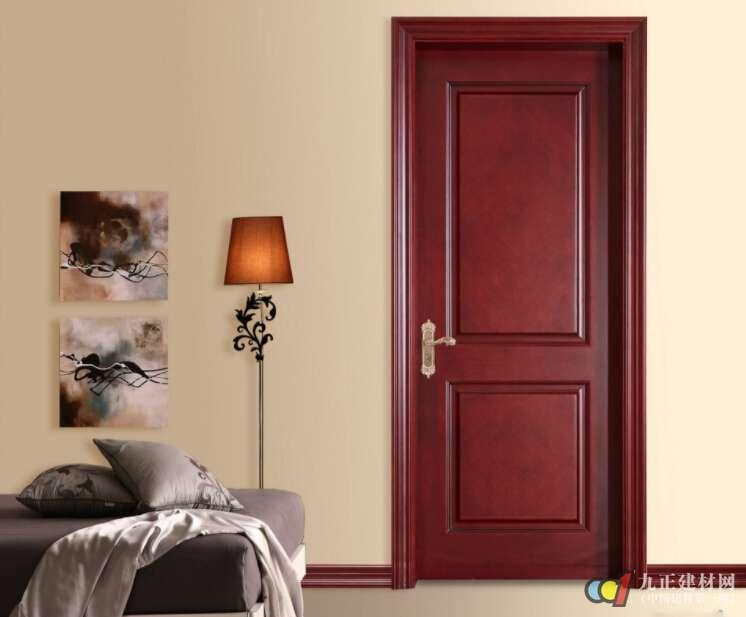door: (413, 46, 614, 576)
